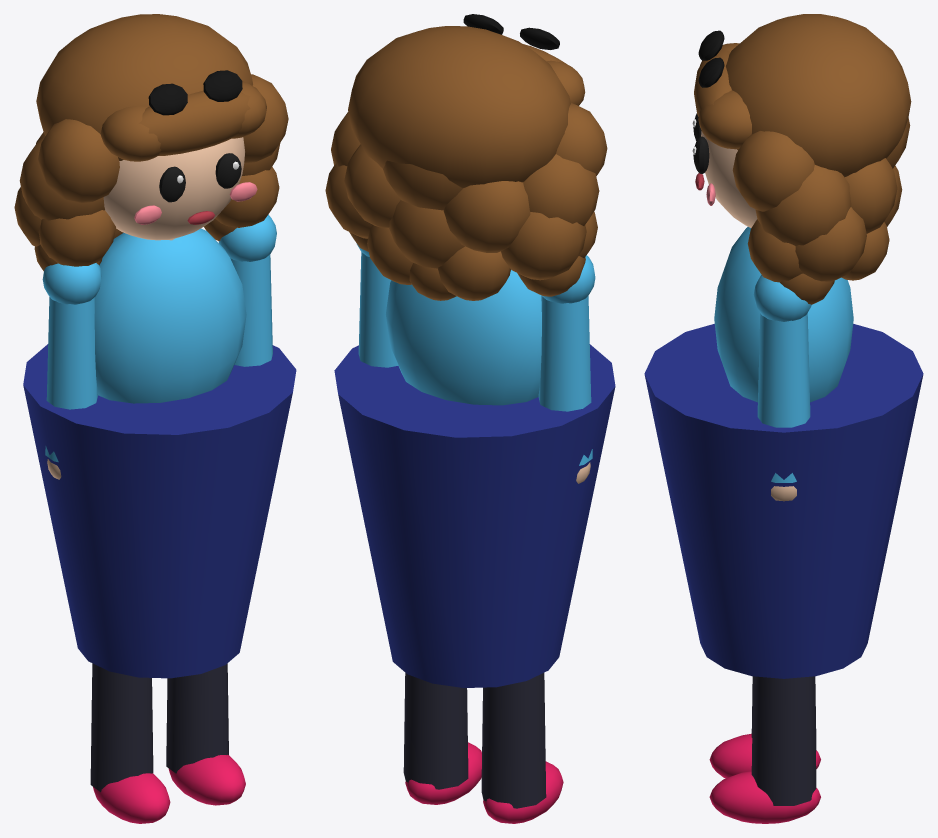
Rendered from cameos_lulu_bouncy.glb.
3 views of the same model, side by side, from view 1: azimuth 30°, elevation 25°; view 2: azimuth 150°, elevation 25°; view 3: azimuth 270°, elevation 25° (orthographic). The views are drawn at different scales.
Visible parts, largest first — view 1: Body, CameosLuluBouncyExtra, Leg_R, Leg_L, Arm_R, Arm_L; view 2: Body, CameosLuluBouncyExtra, Leg_R, Leg_L, Arm_R, Arm_L; view 3: Body, CameosLuluBouncyExtra, Leg_L, Arm_L, Leg_R.
Boxes of the visible parts, x1,y1,x2,y2 form: Body: (23, 137, 296, 678); CameosLuluBouncyExtra: (14, 14, 288, 271); Leg_R: (90, 663, 170, 823); Leg_L: (166, 663, 245, 805); Arm_R: (42, 263, 101, 479); Arm_L: (218, 214, 276, 366); Body: (334, 270, 615, 687); CameosLuluBouncyExtra: (325, 14, 607, 300); Leg_R: (481, 673, 563, 823); Leg_L: (403, 673, 481, 804); Arm_R: (538, 255, 595, 483); Arm_L: (356, 243, 397, 367); Body: (644, 113, 923, 678); CameosLuluBouncyExtra: (694, 14, 911, 304); Leg_L: (709, 676, 820, 823); Arm_L: (753, 275, 811, 501); Leg_R: (709, 676, 820, 778).
Bounding box in the file's own units: 0.6232 × 1.83 × 0.6.
